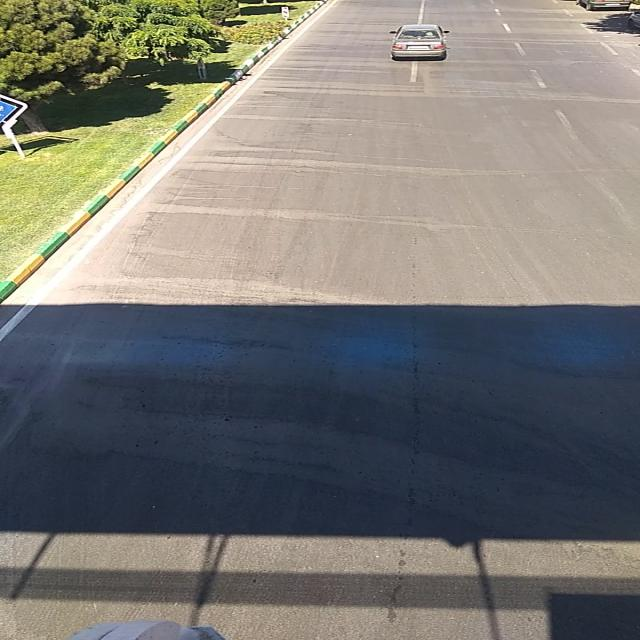car: (386, 26, 452, 58)
